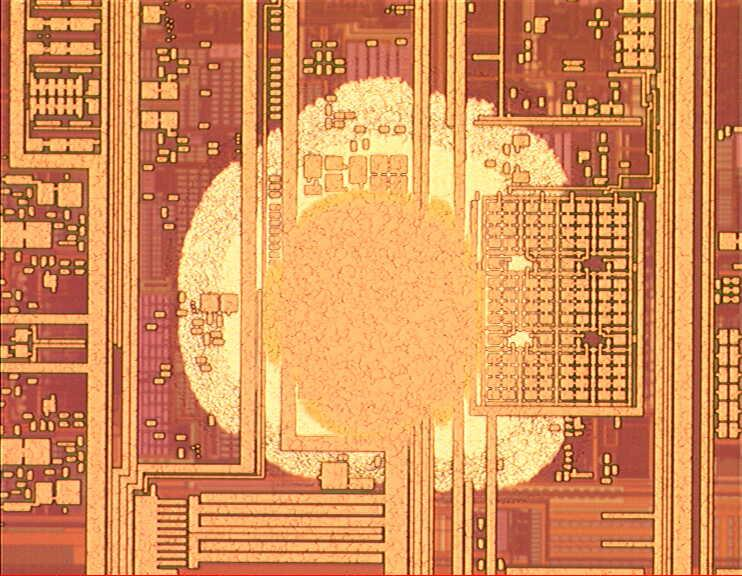BLOCK ETCH: (172, 72, 586, 506)
